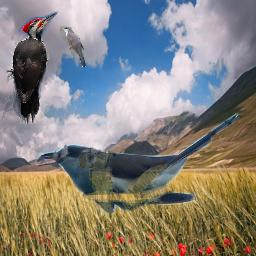Cuckoo: (37, 112, 245, 216), (60, 26, 87, 68)
Woodpecker: (2, 11, 61, 124)
